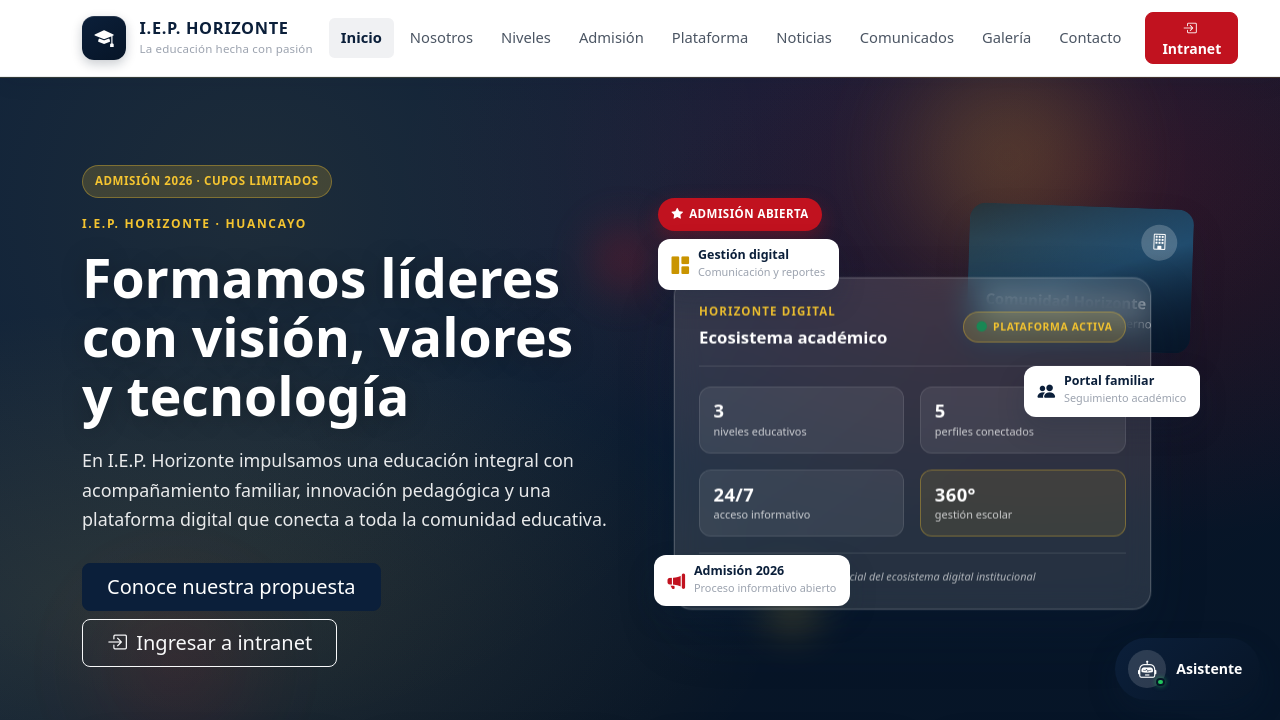
Test: Web pública › navega al login desde la navbar
Click the link with test id "nav-login": (1192, 38) left=1145, top=12, right=1238, bottom=64
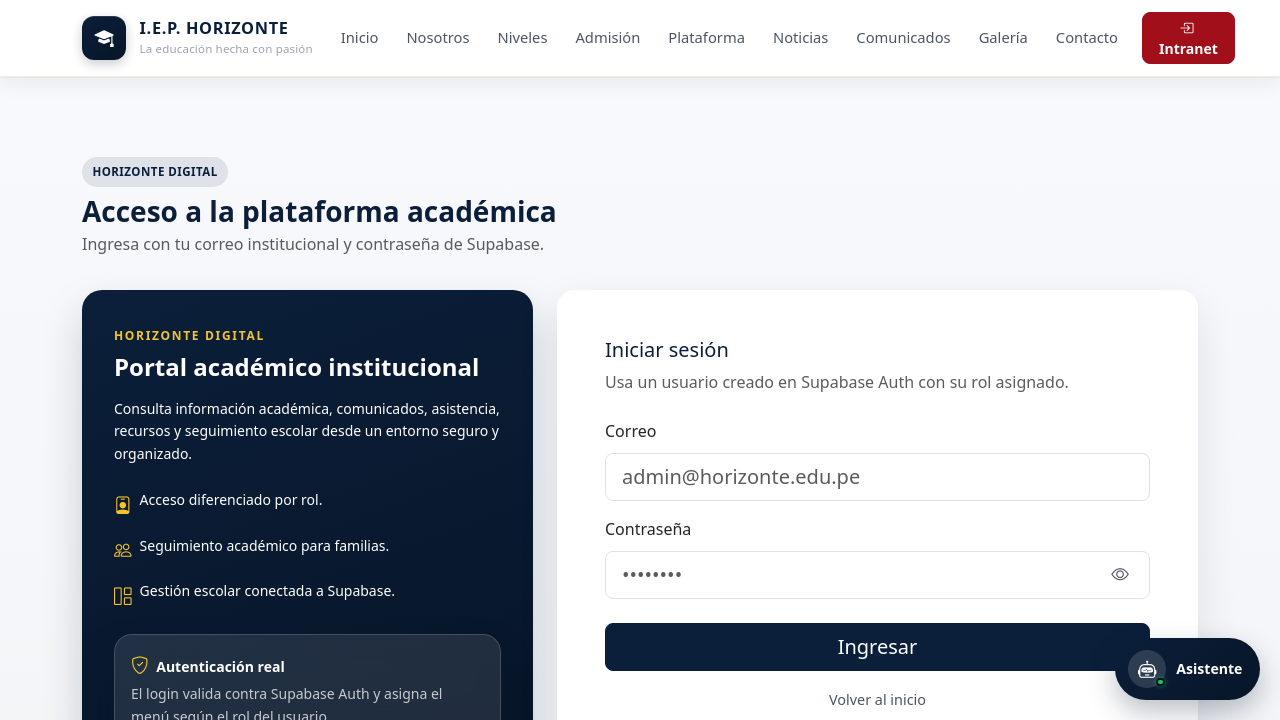
Expected: the form with test id "login-form" is shown, left=605, top=419, right=1150, bottom=670
